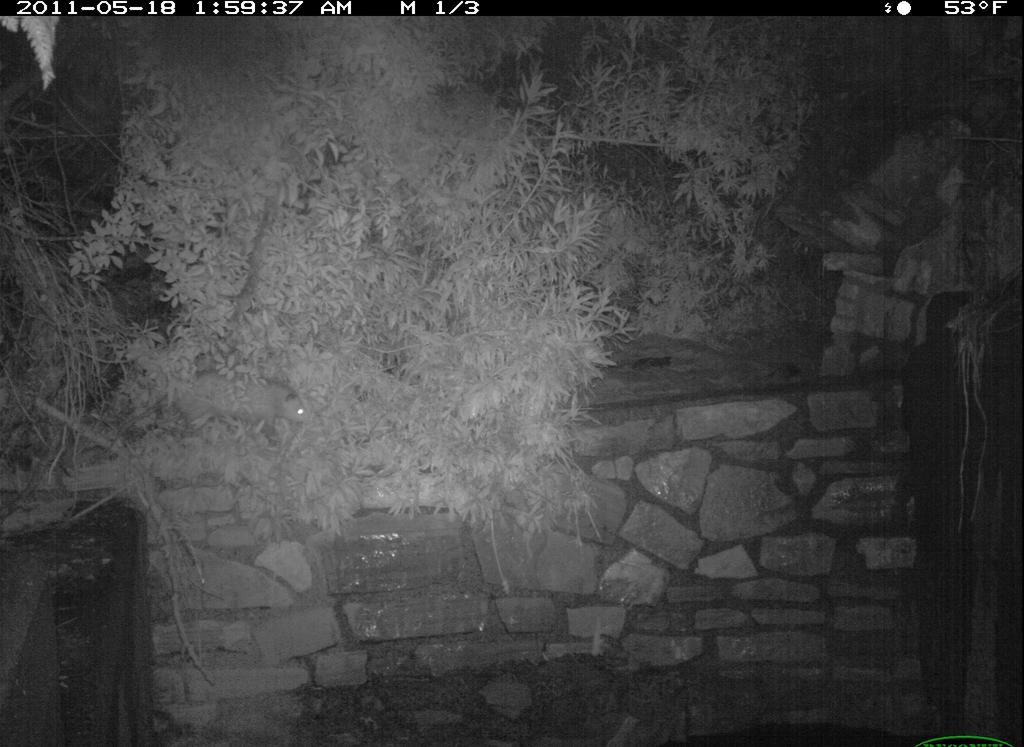opossum: (129, 356, 321, 441)
